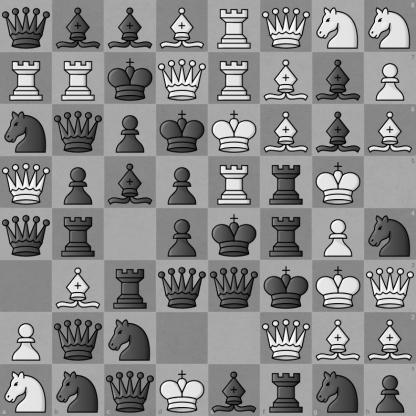B: (364, 104, 416, 156), (364, 312, 416, 364), (53, 261, 104, 312), (157, 1, 208, 52), (261, 53, 312, 104), (261, 105, 312, 156), (313, 313, 364, 364)
K: (156, 364, 209, 416), (209, 105, 260, 156), (313, 157, 364, 208), (313, 261, 364, 312)
N: (0, 364, 52, 416), (364, 0, 416, 52), (313, 1, 364, 52)
P: (364, 52, 416, 104), (1, 313, 52, 364), (313, 209, 364, 260)
Q: (364, 260, 416, 312), (1, 157, 52, 208), (157, 53, 208, 104), (261, 1, 312, 52), (261, 313, 312, 364)
R: (1, 53, 52, 104), (53, 53, 104, 104), (209, 1, 260, 52), (209, 53, 260, 104), (209, 157, 260, 208)
b: (209, 364, 260, 416), (53, 1, 104, 52), (105, 1, 156, 52), (105, 157, 156, 208), (313, 53, 364, 104), (313, 105, 364, 156)
board: (0, 0, 415, 415)
k: (105, 53, 156, 104), (157, 105, 208, 156), (209, 209, 260, 260), (261, 261, 312, 312)
n: (52, 364, 104, 416), (312, 364, 364, 416), (364, 209, 416, 260), (1, 105, 52, 156), (105, 313, 156, 364)
p: (364, 364, 416, 416), (53, 157, 104, 208), (105, 105, 156, 156), (157, 157, 208, 208), (157, 209, 208, 260)
q: (104, 364, 156, 416), (1, 1, 52, 52), (1, 209, 52, 260), (53, 105, 104, 156), (53, 313, 104, 364), (157, 261, 208, 312), (209, 261, 260, 312)
r: (260, 364, 312, 416), (53, 209, 104, 260), (105, 261, 156, 312), (261, 157, 312, 208), (261, 209, 312, 260)
